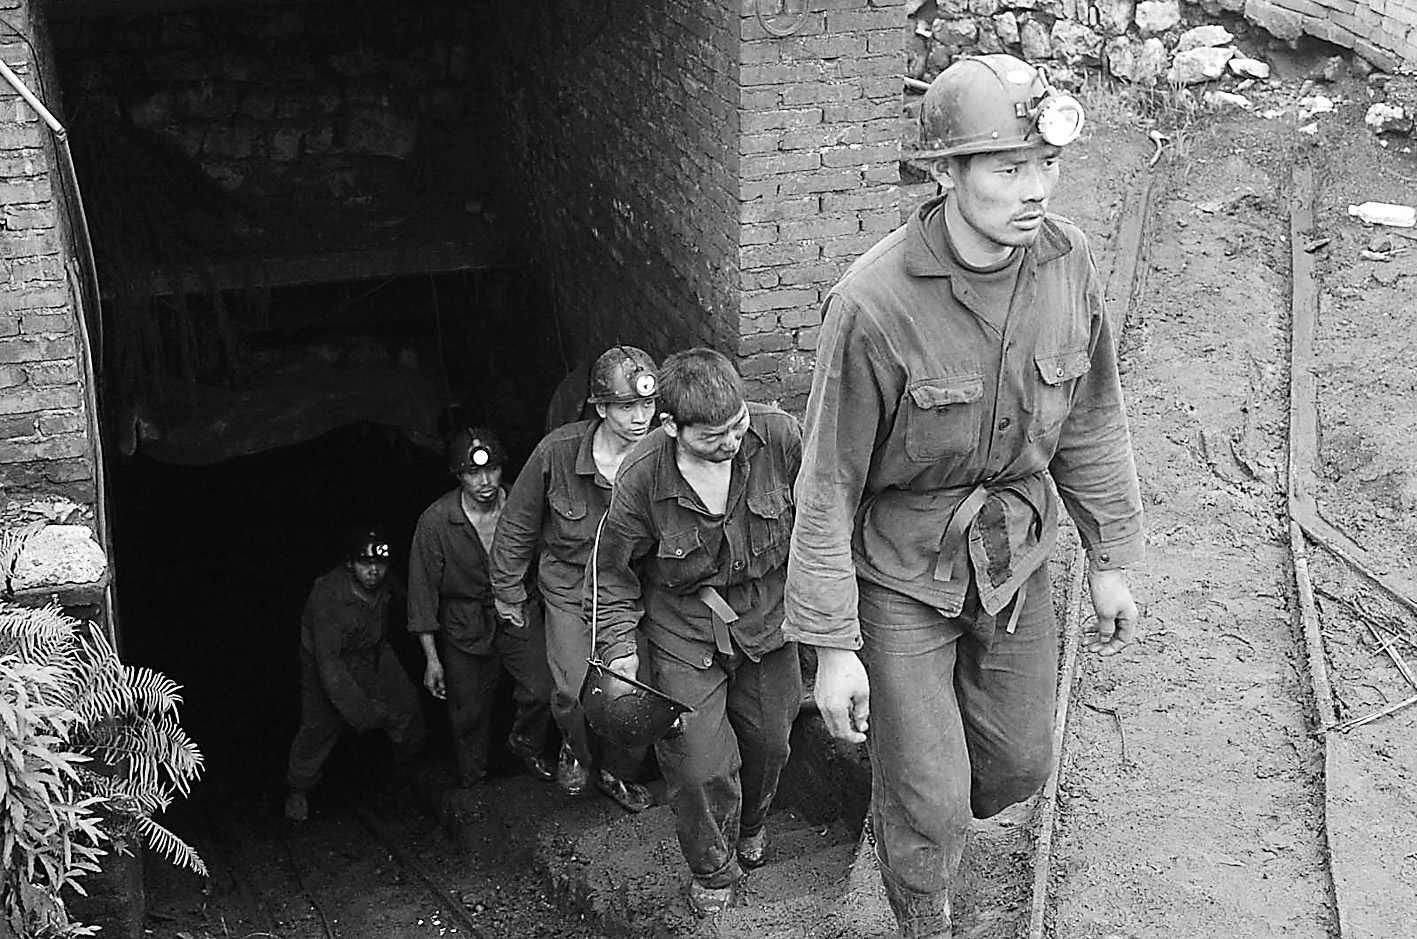helmet: (892, 60, 1091, 257), (571, 351, 672, 447), (448, 425, 516, 514)
